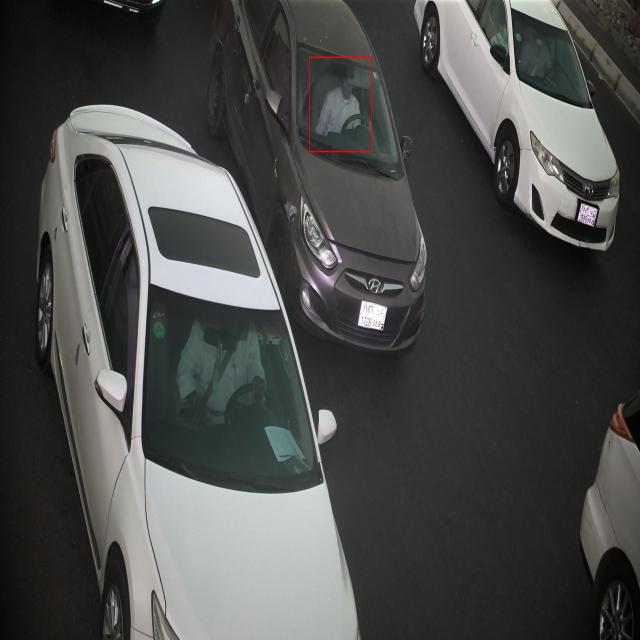windshield: (132, 280, 320, 508), (293, 46, 405, 182), (507, 4, 592, 111)
